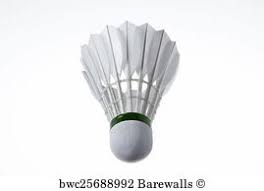shuttle: (77, 28, 189, 164)
